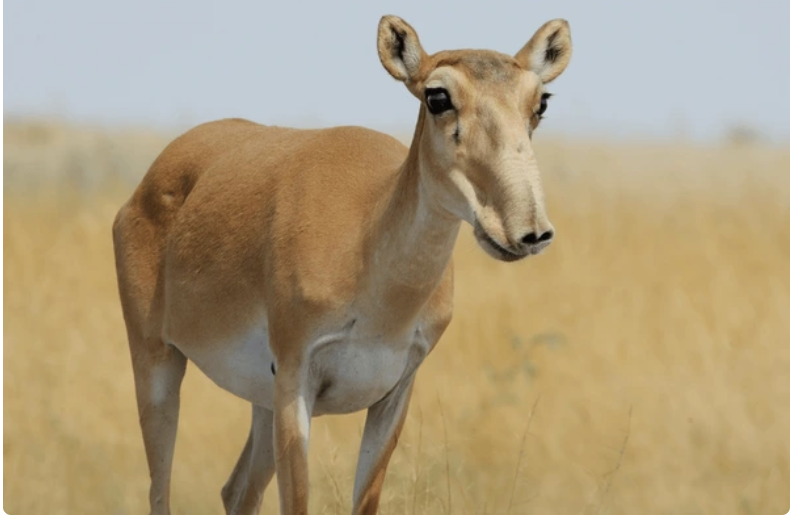saiga: (90, 8, 566, 496)
